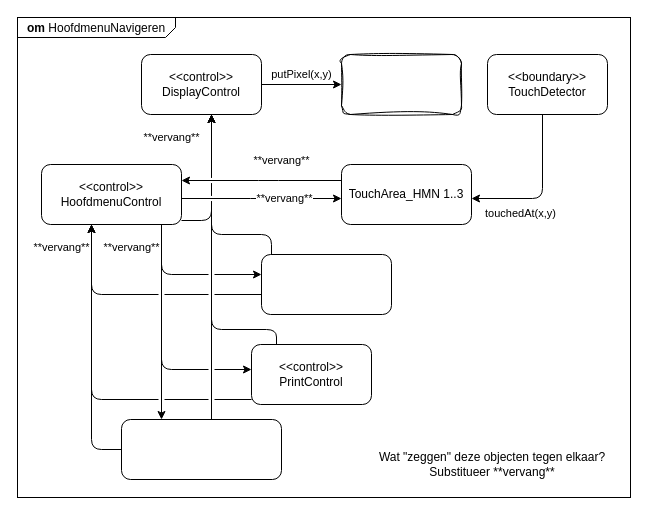
Some shapes in this 648 by 515 pixel diagram are drawn without their labels. The centre of each missing label's shape, as x and y in pixels:
<<boundary>> Display: the point at 401,84
<<control>> ModelSelectControl: the point at 326,284
<<control>> PrinterOnderhoudControl: the point at 201,449
